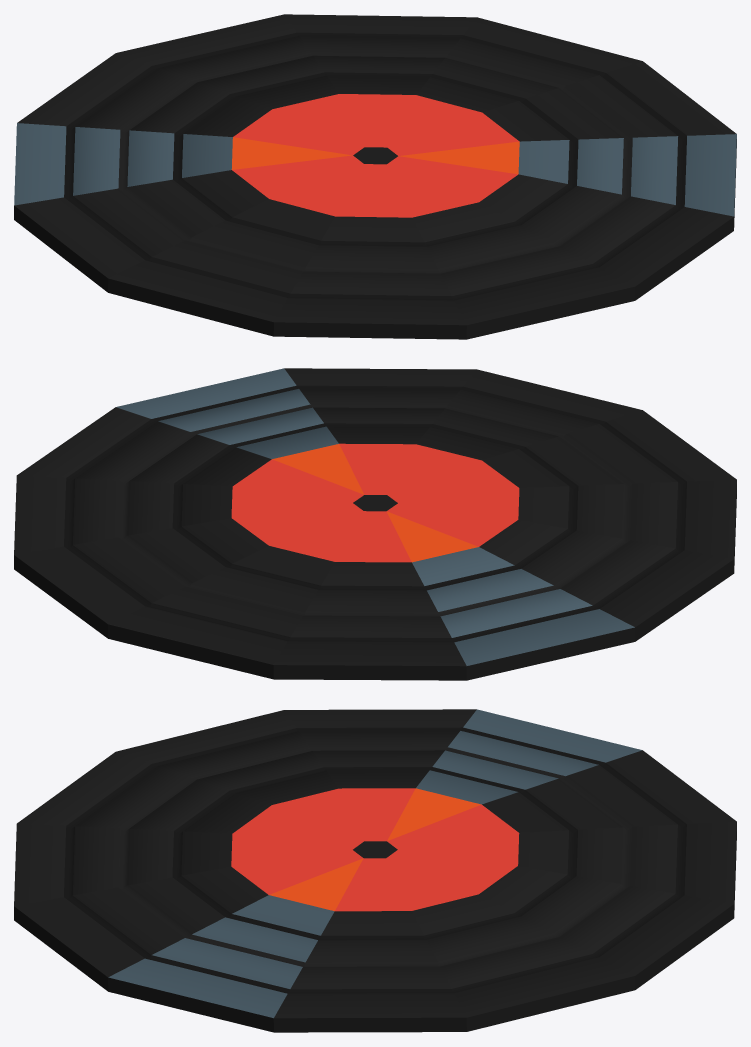
Rendered from VinylLanes.fbx.
3 views of the same model, one above another, from view 1: azimuth 30°, elevation 25°; view 2: azimuth 150°, elevation 25°; view 3: azimuth 270°, elevation 25° (orthographic).
Visible parts, largest first — view 1: group225046476.001; view 2: group225046476.001; view 3: group225046476.001.
Boxes of the visible parts, x1,y1,x2,y2 form: group225046476.001: (14,14,736,339); group225046476.001: (14,368,736,680); group225046476.001: (14,709,736,1032).
Bounding box in the file's own units: 32.95 × 1.7 × 32.95.
